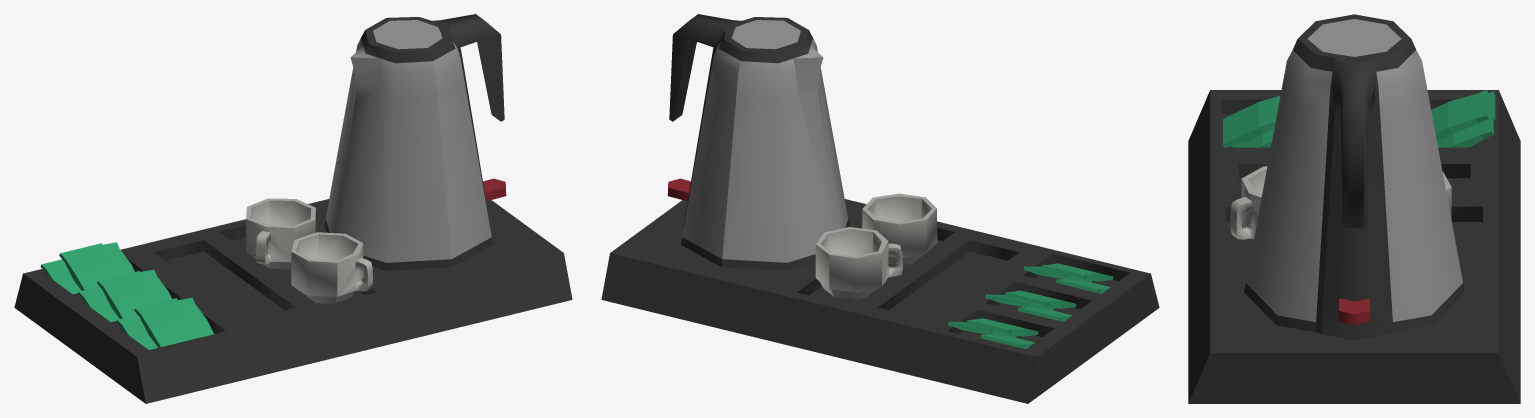
File: TeaTray-Set-Hotel_01.fbx
3 views of the same model, side by side, from view 1: azimuth 30°, elevation 25°; view 2: azimuth 150°, elevation 25°; view 3: azimuth 270°, elevation 25° (orthographic). The views are drawn at different scales.
Visible parts, largest first — view 1: Tea_Tray_Combined; view 2: Tea_Tray_Combined; view 3: Tea_Tray_Combined.
Part boxes in pixels (x1=…): Tea_Tray_Combined: x1=14, y1=14, x2=572, y2=403; Tea_Tray_Combined: x1=601, y1=14, x2=1159, y2=403; Tea_Tray_Combined: x1=1188, y1=14, x2=1520, y2=403.
Size of the model in its own units: 0.6867 by 0.3711 by 0.3665.
